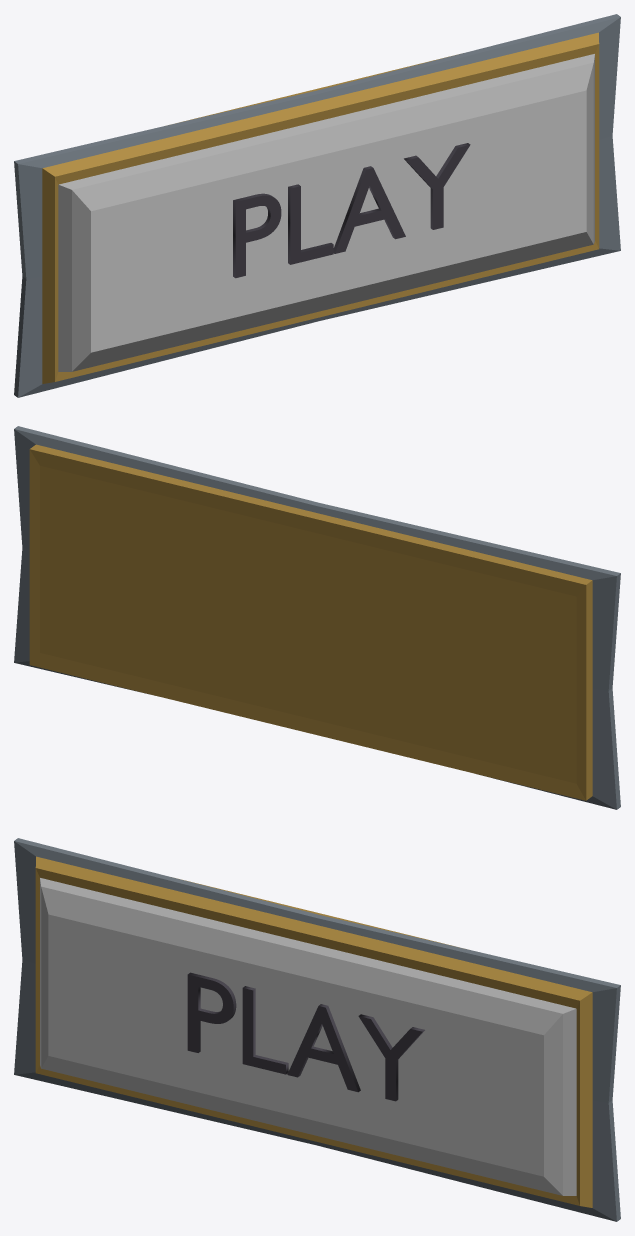
The model's file is playButton.fbx.
The picture shows the model from 3 angles, top to bottom: view 1: azimuth 30°, elevation 25°; view 2: azimuth 150°, elevation 25°; view 3: azimuth 330°, elevation 25°; orthographic projection.
Parts seen in each view (by area): view 1: buttonWhy, PlayText; view 2: buttonWhy; view 3: buttonWhy, PlayText.
Part boxes in pixels (x1,y1,x2,y2): buttonWhy: (14, 14, 620, 397); PlayText: (233, 143, 470, 278); buttonWhy: (14, 426, 620, 809); buttonWhy: (14, 838, 620, 1221); PlayText: (187, 972, 424, 1101).
Bounding box in the file's own units: 674 × 250 × 64.78.
